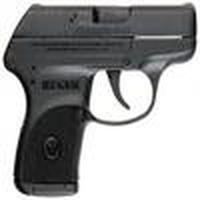gun: (2, 2, 200, 196)
